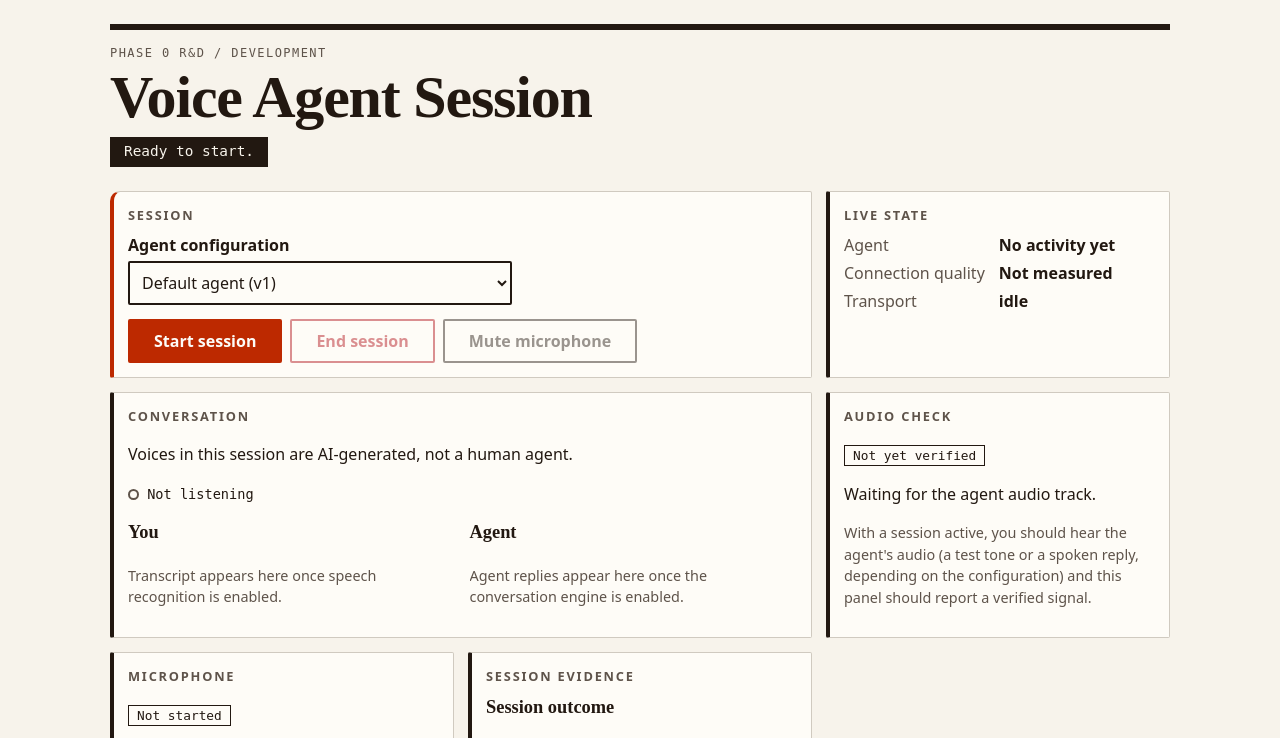
Scenario: SessionScreen accessibility and states › shows an alert with the API message when session creation fails
Click the button "Start session".
click(205, 341)  # box [128,319,282,363]
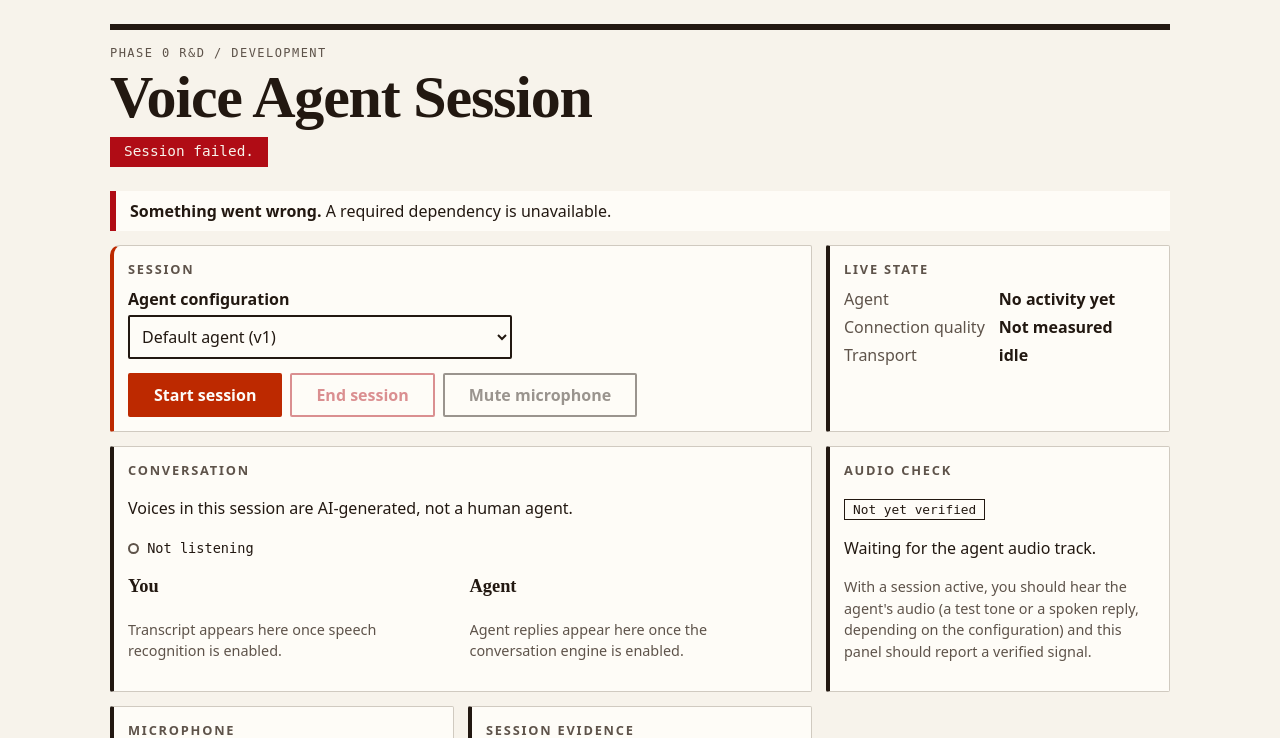
Expected: the button "Start session" is enabled, [128,373,282,417]
Now the message "Something went wrong. A required dependency is unavailable." is shown, box [110,191,1170,231]
